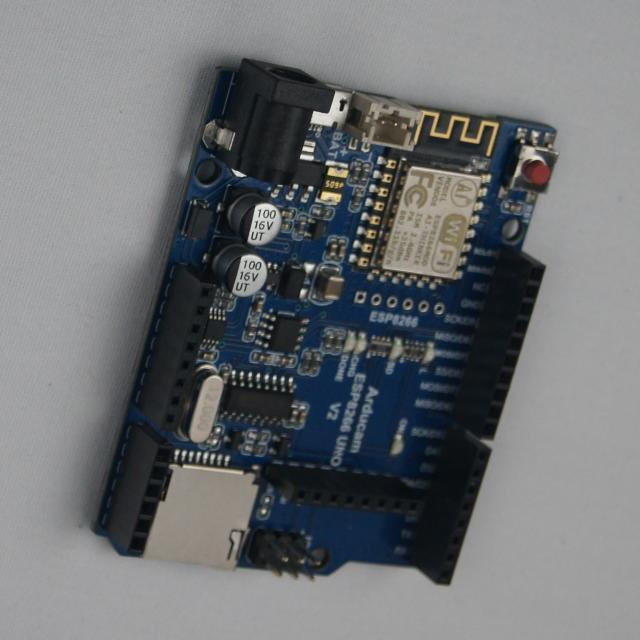Arduino Uno Camera Shield: (97, 60, 558, 584)
